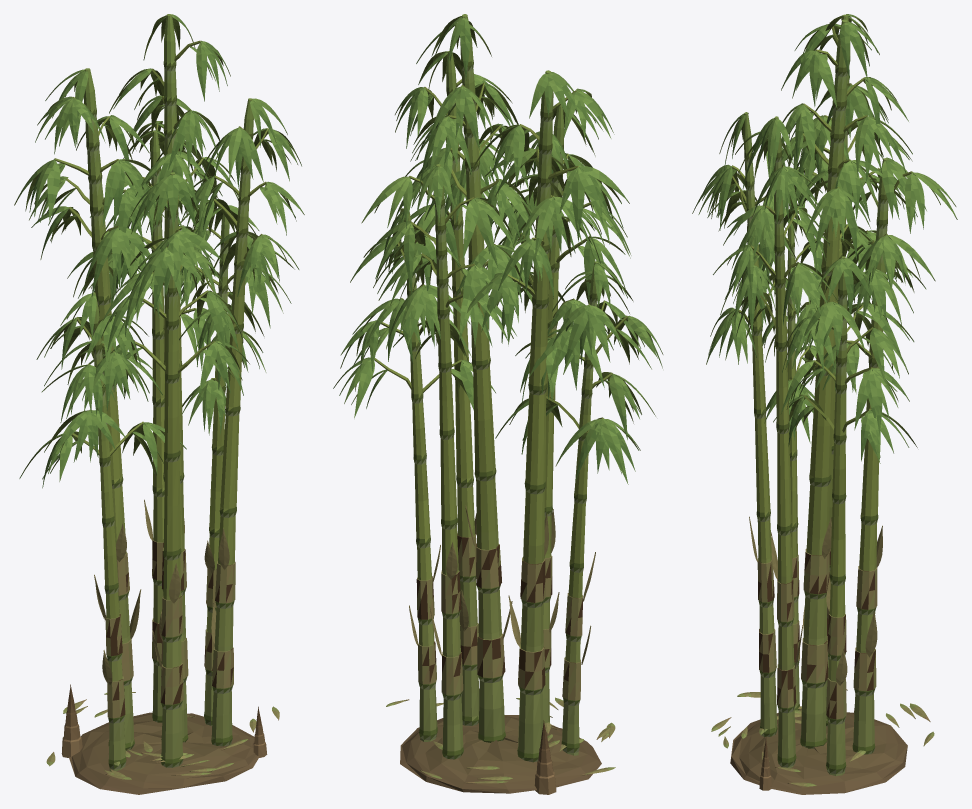
File: bamboo-clump.glb
The picture shows the model from 3 angles, left to right: view 1: azimuth 30°, elevation 25°; view 2: azimuth 150°, elevation 25°; view 3: azimuth 270°, elevation 25°; orthographic projection. The views are drawn at different scales.
Parts seen in each view (by area): view 1: bamboo_clump; view 2: bamboo_clump; view 3: bamboo_clump.
Boxes of the visible parts, x1,y1,x2,y2 form: bamboo_clump: (14, 14, 304, 794); bamboo_clump: (333, 14, 663, 794); bamboo_clump: (692, 14, 957, 794).
Size of the model in its own units: 1.42 by 3.65 by 1.18.
